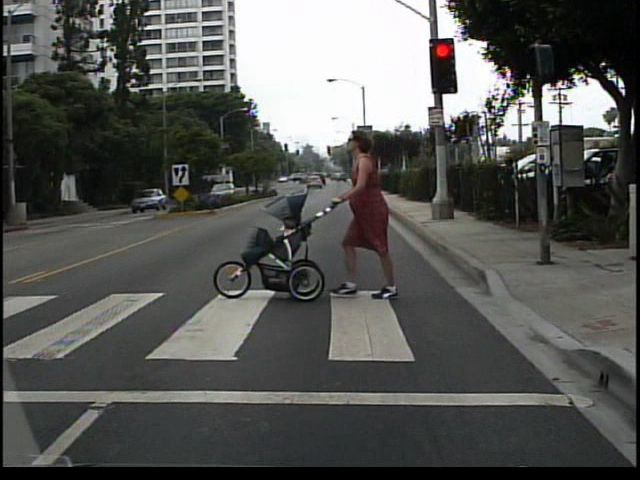person: (332, 131, 416, 303)
